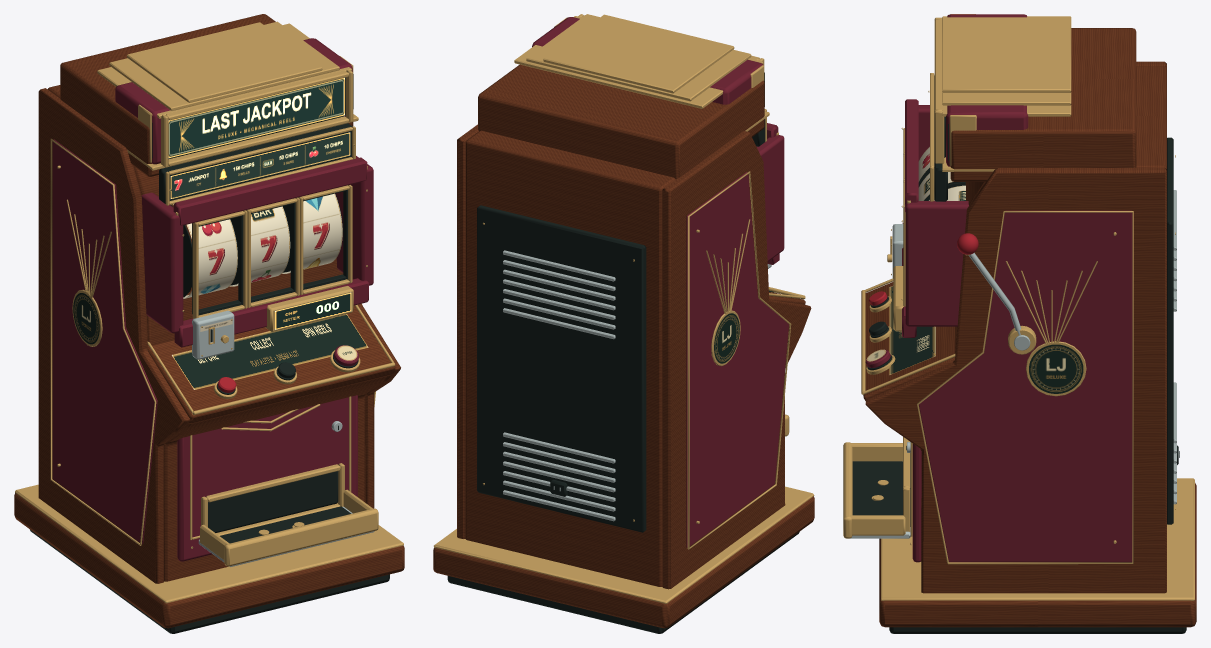
File: slot-machine-burgundy.glb
3 renders of one model, left to right at view 1: azimuth 30°, elevation 25°; view 2: azimuth 150°, elevation 25°; view 3: azimuth 270°, elevation 25°, orthographic. The views are drawn at different scales.
Visible parts, largest first — view 1: burgundy | 02 Oxblood lacquer, burgundy | 01 Polished walnut veneer, burgundy | 03 Aged satin brass, burgundy | 06 Ivory printed mechanical reels, burgundy | 05 Black enamel and rubber, burgundy | 07 Illuminated glass artwork, burgundy | 04 Polished coin mechanism steel; view 2: burgundy | 01 Polished walnut veneer, burgundy | 05 Black enamel and rubber, burgundy | 02 Oxblood lacquer, burgundy | 03 Aged satin brass, burgundy | 04 Polished coin mechanism steel, burgundy | 06 Ivory printed mechanical reels; view 3: burgundy | 02 Oxblood lacquer, burgundy | 01 Polished walnut veneer, burgundy | 03 Aged satin brass, burgundy | 05 Black enamel and rubber, burgundy | 06 Ivory printed mechanical reels, burgundy | 04 Polished coin mechanism steel, burgundy | 08 Oxblood Bakelite control.
Boxes of the visible parts, <box> form: burgundy | 02 Oxblood lacquer: <box>52,38,373,561</box>; burgundy | 01 Polished walnut veneer: <box>14,14,404,628</box>; burgundy | 03 Aged satin brass: <box>15,21,403,603</box>; burgundy | 06 Ivory printed mechanical reels: <box>73,193,368,389</box>; burgundy | 05 Black enamel and rubber: <box>30,74,389,633</box>; burgundy | 07 Illuminated glass artwork: <box>168,78,351,329</box>; burgundy | 04 Polished coin mechanism steel: <box>192,310,374,566</box>; burgundy | 01 Polished walnut veneer: <box>433,64,814,628</box>; burgundy | 05 Black enamel and rubber: <box>447,72,799,633</box>; burgundy | 02 Oxblood lacquer: <box>532,17,788,547</box>; burgundy | 03 Aged satin brass: <box>433,14,814,603</box>; burgundy | 04 Polished coin mechanism steel: <box>503,250,771,521</box>; burgundy | 06 Ivory printed mechanical reels: <box>714,290,777,363</box>; burgundy | 02 Oxblood lacquer: <box>865,14,1132,562</box>; burgundy | 01 Polished walnut veneer: <box>863,28,1196,627</box>; burgundy | 03 Aged satin brass: <box>843,14,1194,600</box>; burgundy | 05 Black enamel and rubber: <box>852,75,1186,633</box>; burgundy | 06 Ivory printed mechanical reels: <box>866,147,1083,393</box>; burgundy | 04 Polished coin mechanism steel: <box>850,190,1179,538</box>; burgundy | 08 Oxblood Bakelite control: <box>869,233,978,305</box>.
Bounding box in the file's own units: 0.962 × 1.92 × 1.16.
Materials: 8 (3 with a texture image).
